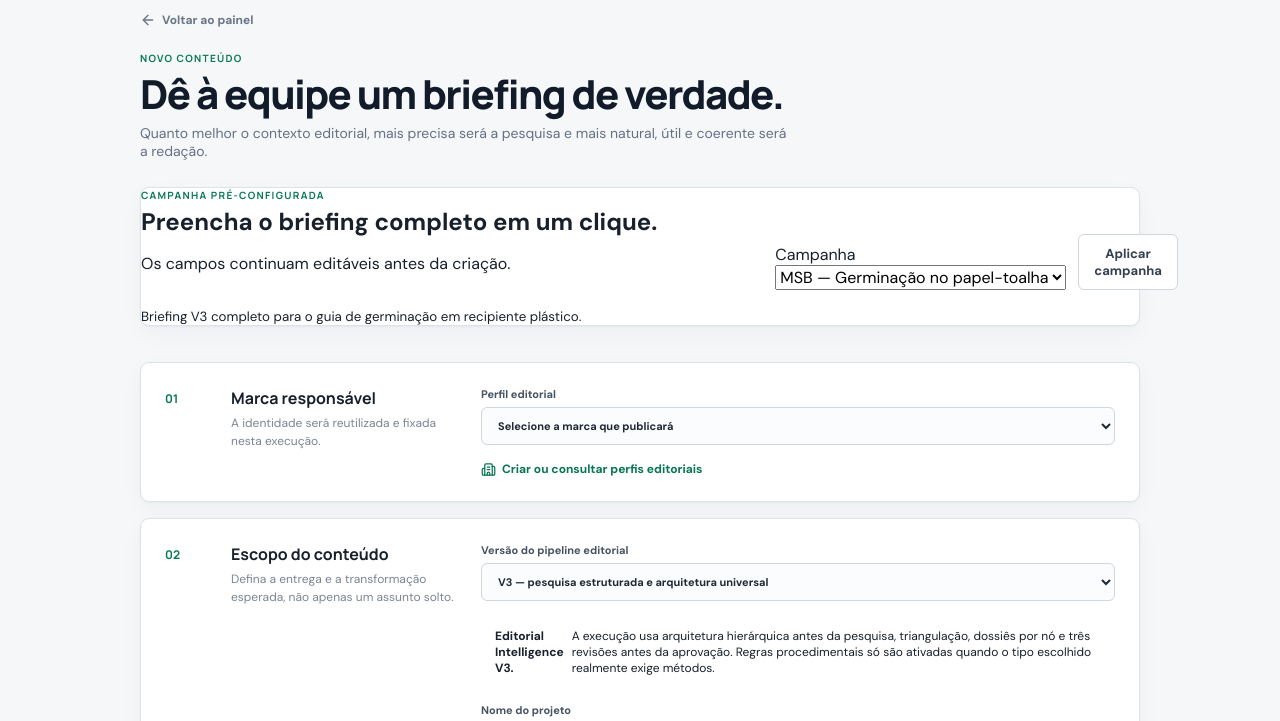
it: editorial profiles and brief › loads a reusable profile and applies its reader context
The image size is (1280, 721).
Select "Blog principal — Marca Exemplo" in the dropdown labelled "Perfil editorial" at (798, 426), box [481,407,1115,445]
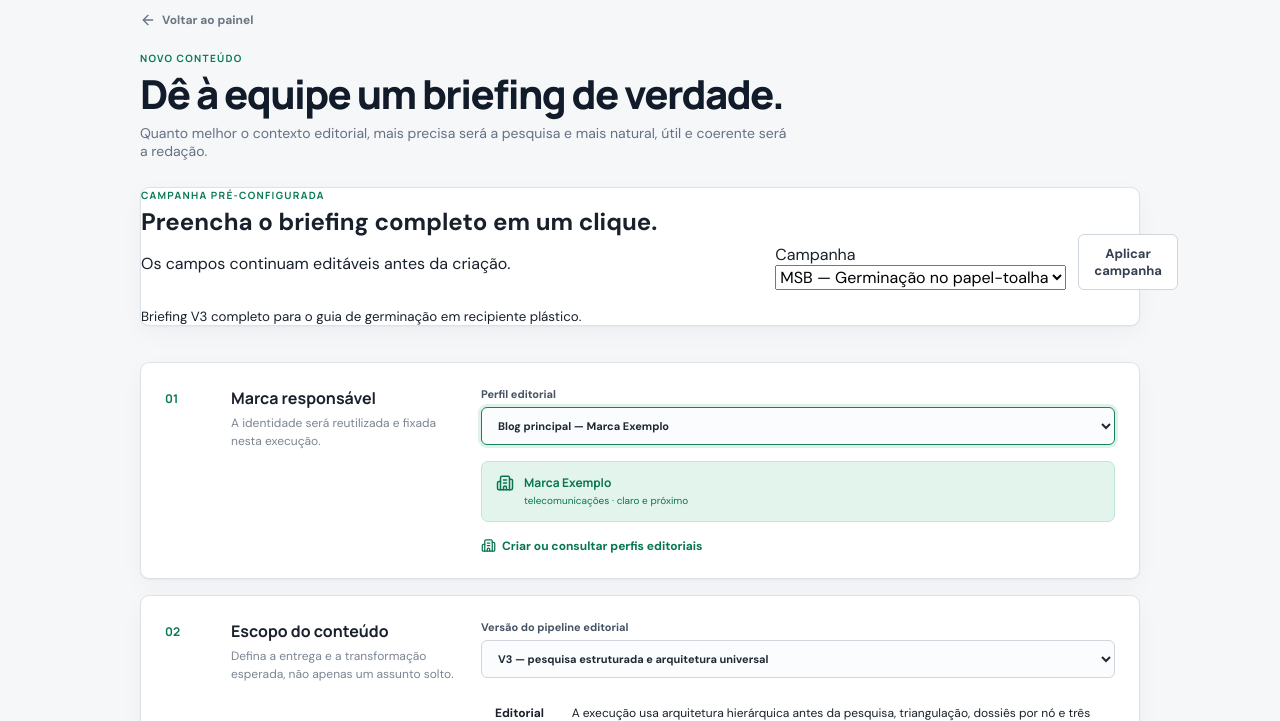
Result: the text "Marca Exemplo" is shown at [524,474,611,491]
